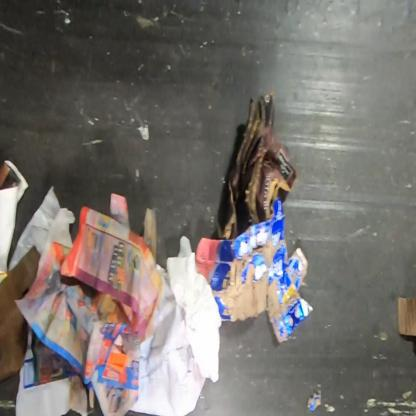cardboard: (196, 196, 314, 344), (217, 90, 299, 240), (0, 246, 41, 383), (397, 296, 415, 338)
soft_plastic: (7, 183, 77, 272)
